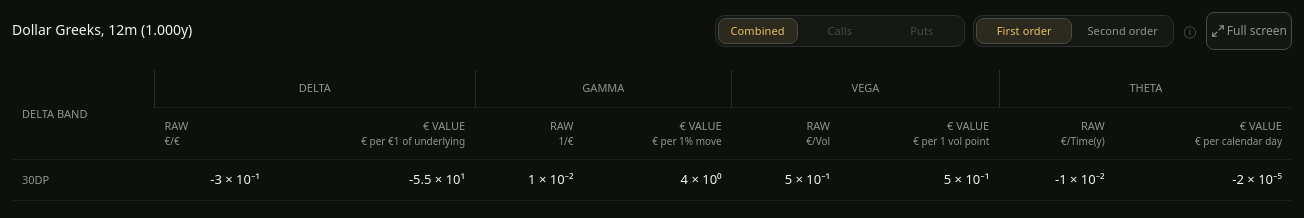
Test case: DollarGreeksByMaturity › shows an explicit gap note (no fabricated table) when the cell predates the second-order set
The width and height of the screenshot is (1304, 218).
# Open the Second order group: the empty state is preserved (no fabricated table).
Click the button "Second order" at (1123,31), box 1074,18 -> 1171,44
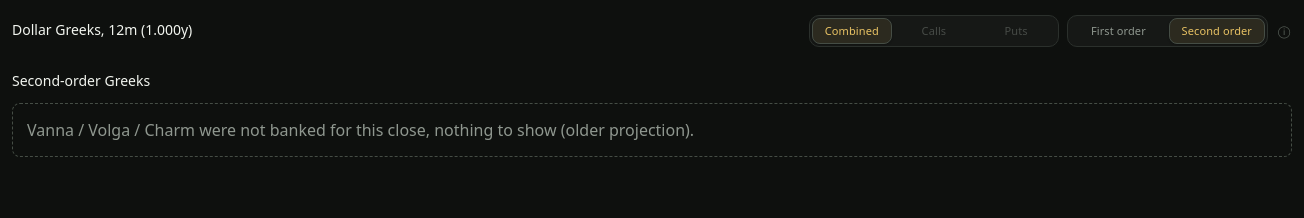
Expected: the text "not banked for this close" is shown, 27,119 -> 694,141
